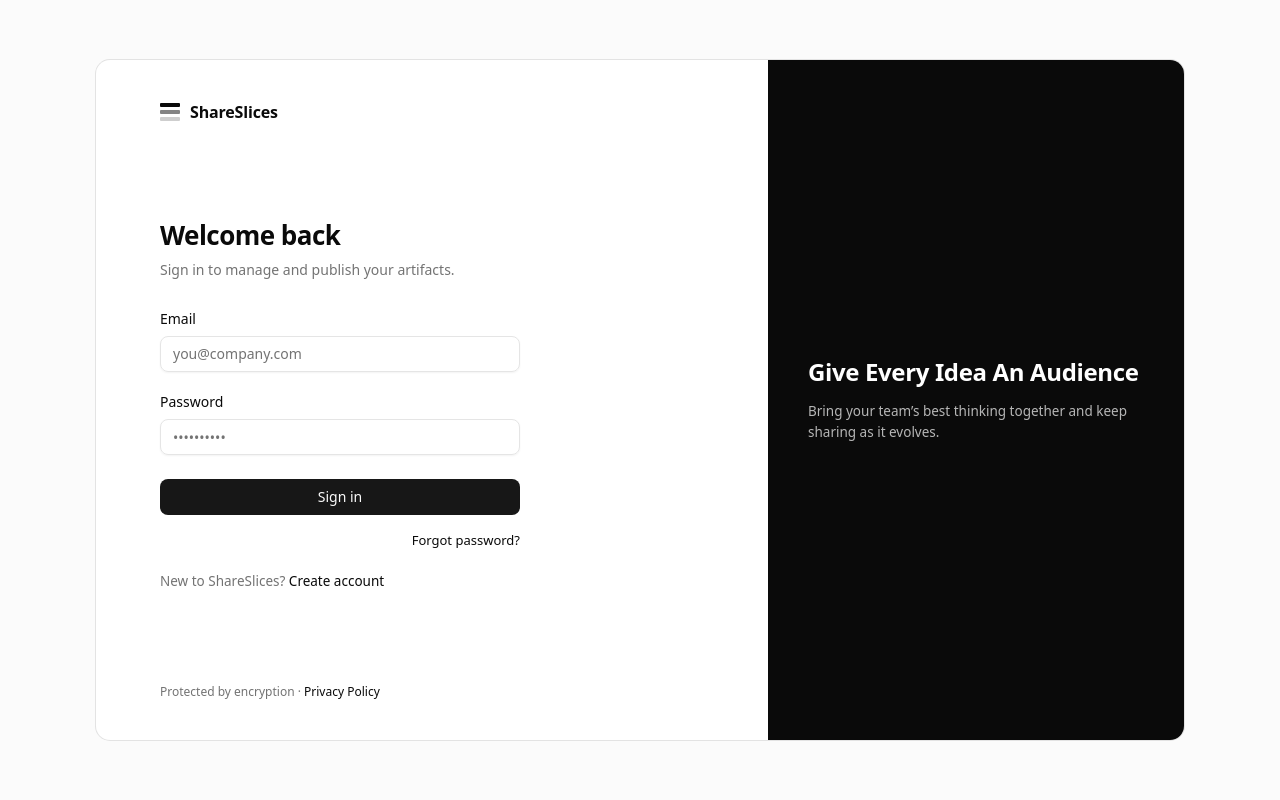
account entry screens › uses neutral feedback for request-validation login failures
The image size is (1280, 800).
Click the button "Sign in": (340, 497) [160, 479, 520, 515]
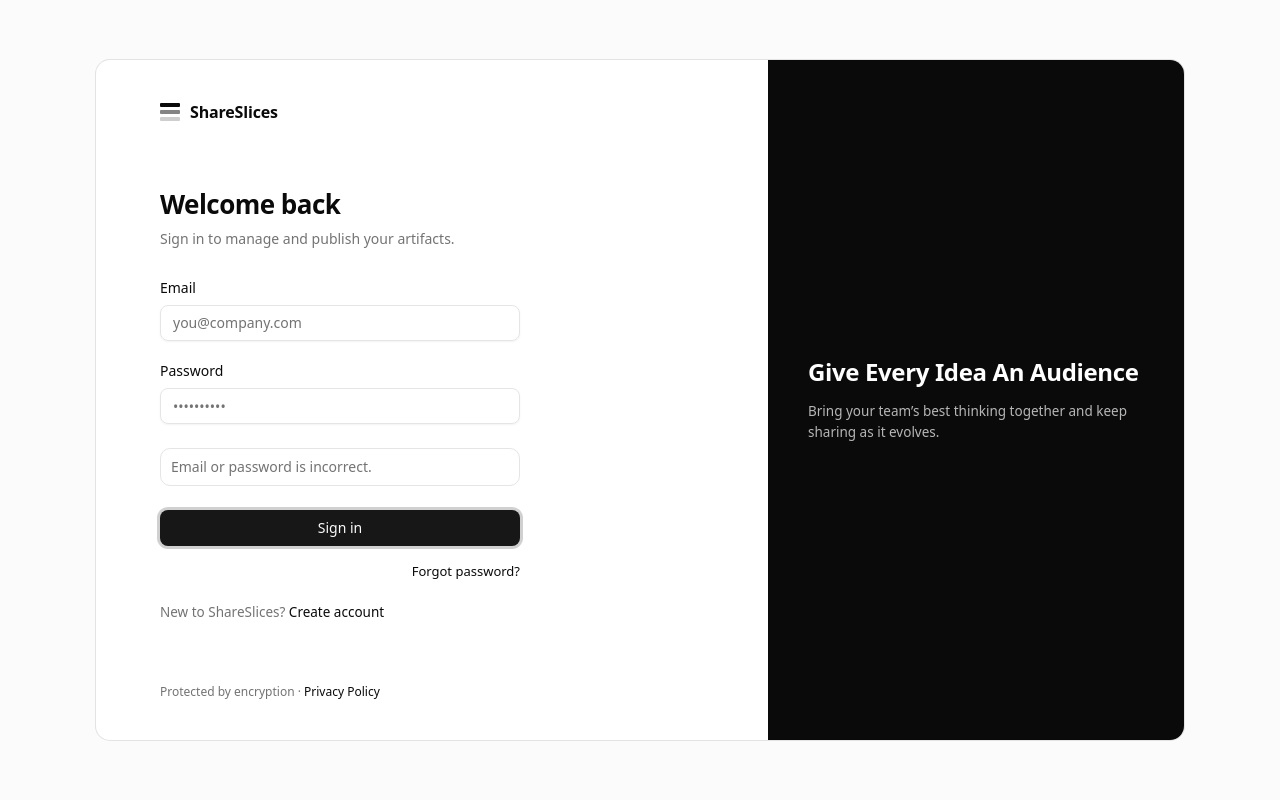
Expected: the text "Email or password is incorrect." is shown, [171, 457, 372, 476]
